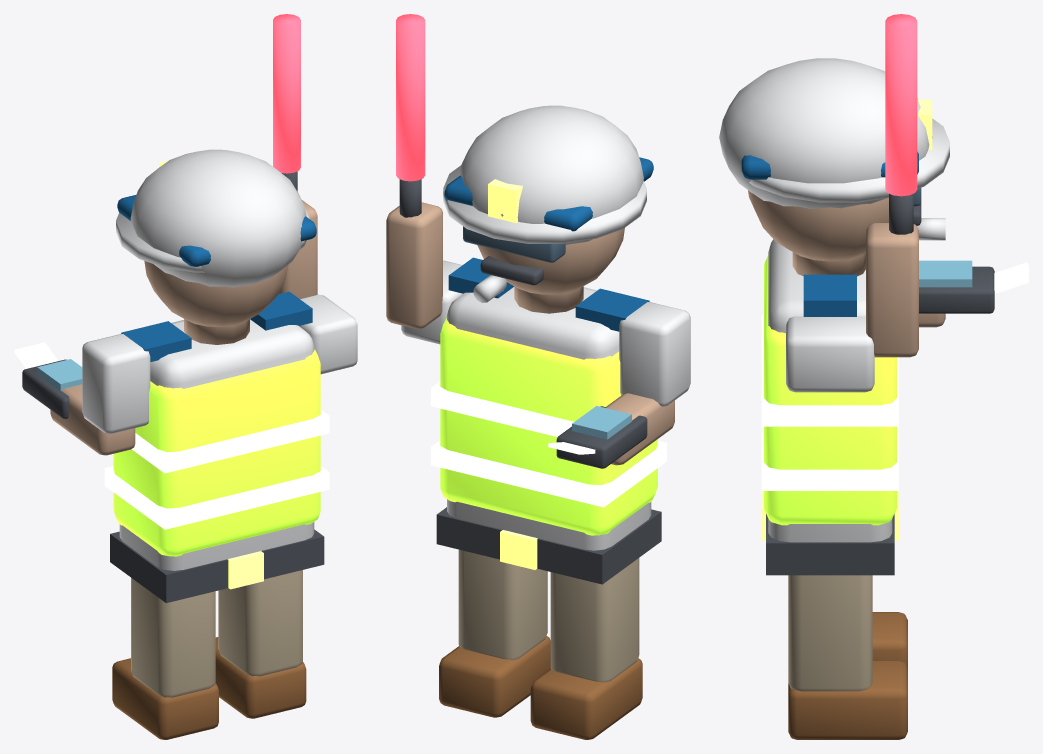
Rendered from traffic_police.glb.
3 renders of one model, left to right at view 1: azimuth 30°, elevation 25°; view 2: azimuth 150°, elevation 25°; view 3: azimuth 270°, elevation 25°, orthographic. The views are drawn at different scales.
Parts seen in each view (by area): view 1: Cop_Torso, Cop_Leg_L, Cop_Leg_R, Cop_Arm_L, Cop_Arm_R; view 2: Cop_Torso, Cop_Leg_L, Cop_Leg_R, Cop_Arm_R, Cop_Arm_L; view 3: Cop_Torso, Cop_Arm_R, Cop_Leg_R, Cop_Arm_L, Cop_Leg_L.
Boxes of the visible parts, box(x1,y1,x2,y2) form: Cop_Torso: box(104, 149, 329, 603); Cop_Leg_L: box(112, 578, 218, 739); Cop_Leg_R: box(215, 570, 306, 718); Cop_Arm_L: box(14, 334, 150, 455); Cop_Arm_R: box(273, 14, 357, 374); Cop_Torso: box(431, 105, 666, 584); Cop_Leg_L: box(530, 558, 642, 739); Cop_Leg_R: box(439, 549, 550, 717); Cop_Arm_R: box(386, 14, 462, 344); Cop_Arm_L: box(548, 302, 690, 468); Cop_Torso: box(719, 58, 949, 575); Cop_Arm_R: box(786, 14, 918, 392); Cop_Leg_R: box(788, 575, 907, 739); Cop_Arm_L: box(919, 260, 1028, 327); Cop_Leg_L: box(872, 612, 907, 668).
Bounding box in the file's own units: 0.74 × 1.84 × 0.6983.
